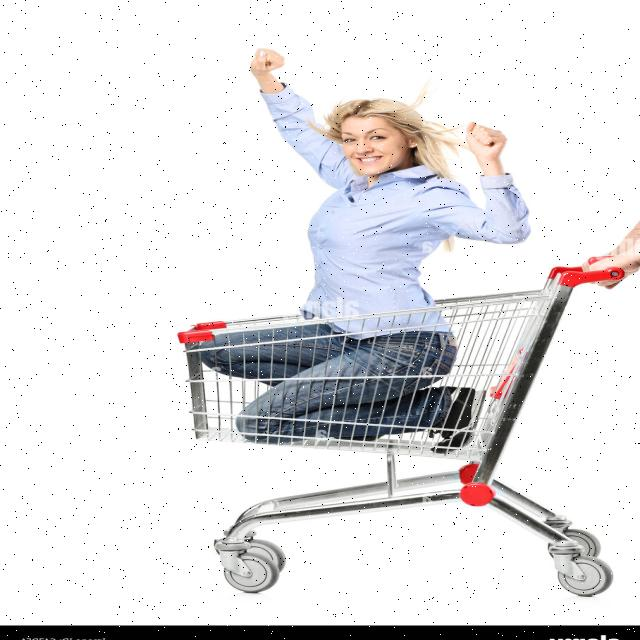Person: (194, 46, 534, 452)
